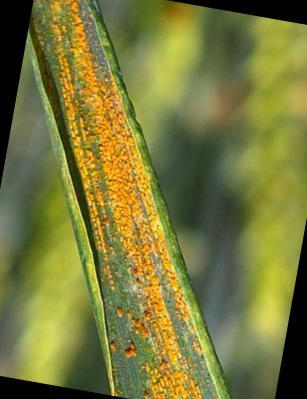Wheat: (79, 145, 196, 331), (39, 12, 139, 153)
